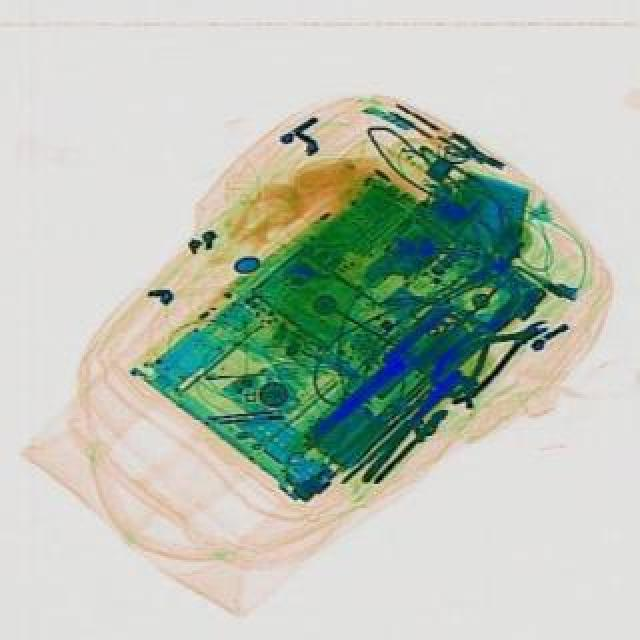wrench: (422, 302, 558, 406)
